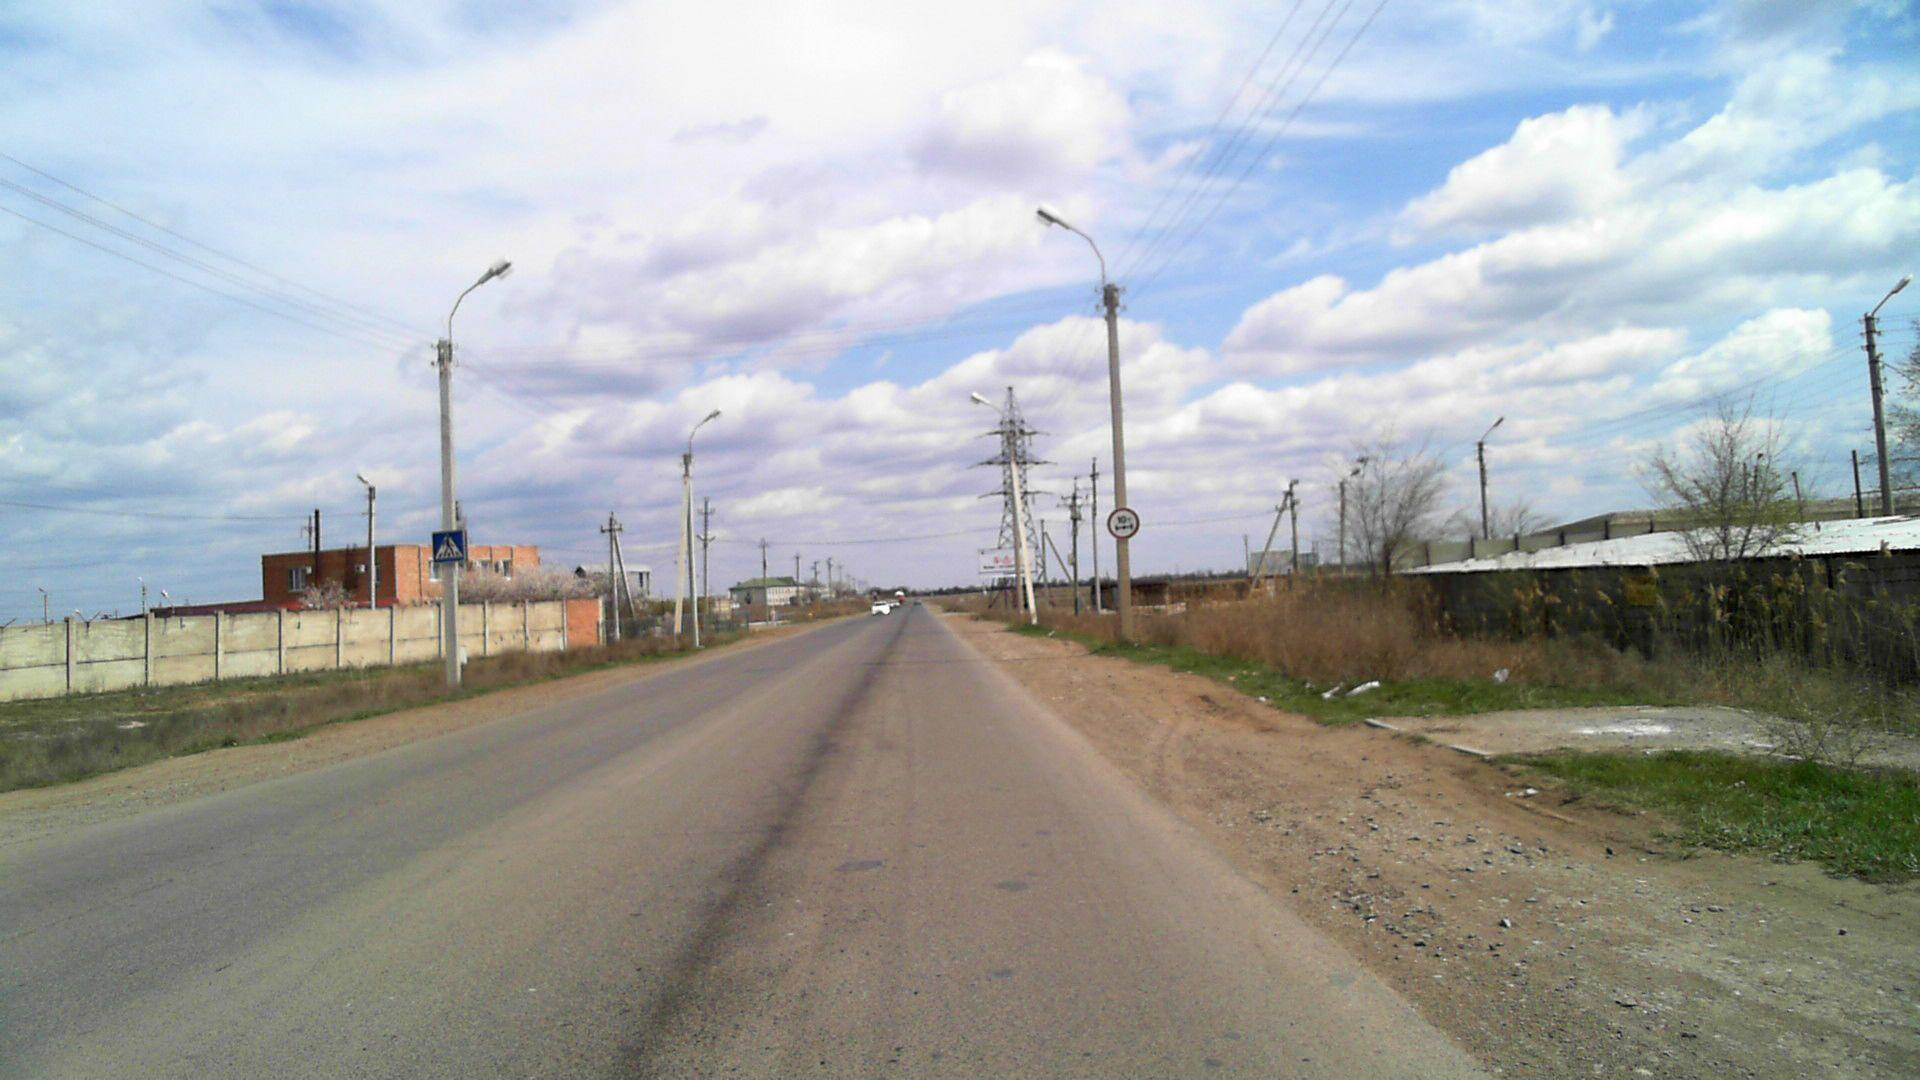3_12: (1108, 506, 1139, 541)
5_19_2: (429, 526, 468, 564)
